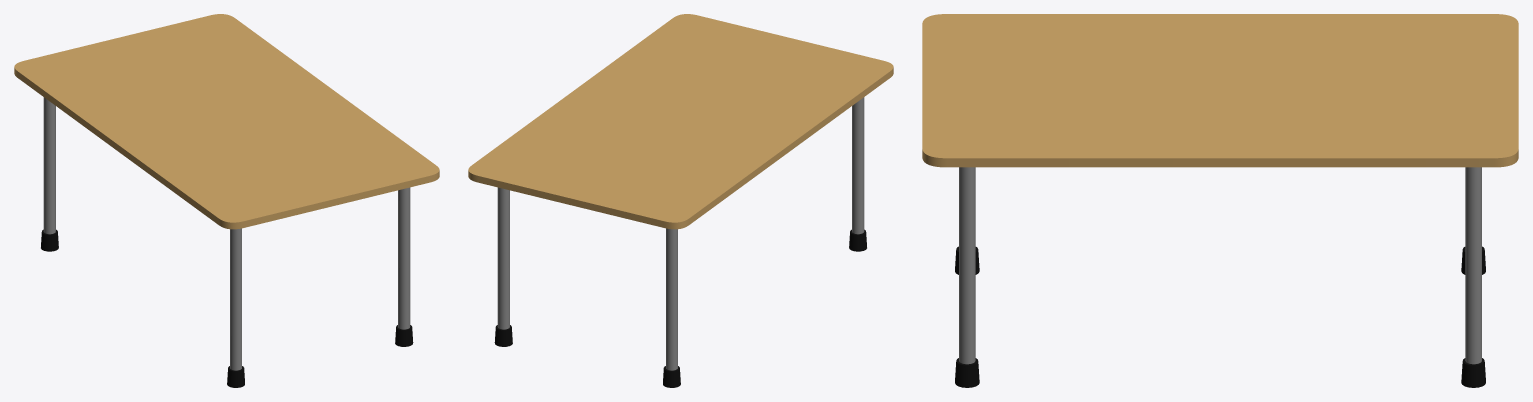
The model's file is Table.FBX.
3 renders of one model, left to right at view 1: azimuth 30°, elevation 25°; view 2: azimuth 150°, elevation 25°; view 3: azimuth 270°, elevation 25°, orthographic. The views are drawn at different scales.
Parts seen in each view (by area): view 1: Table; view 2: Table; view 3: Table.
Part boxes in pixels (x1,y1,x2,y2): Table: [14, 14, 439, 387]; Table: [468, 14, 893, 387]; Table: [922, 14, 1518, 387].
Size of the model in its own units: 40.9 by 31.84 by 71.45.
